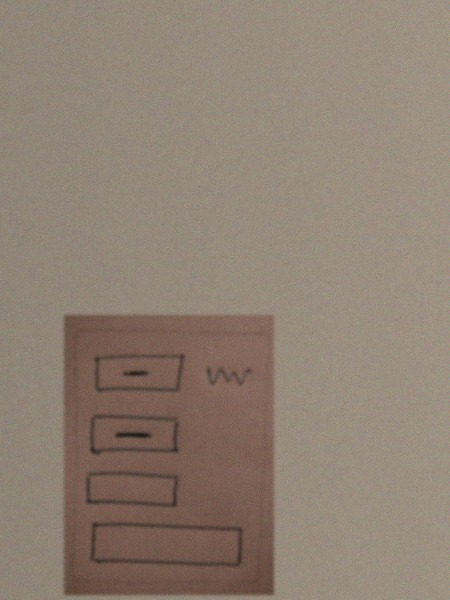button: (90, 350, 186, 397), (86, 412, 181, 459)
text: (201, 360, 253, 393)
text_input: (86, 520, 244, 570), (85, 468, 181, 514)
